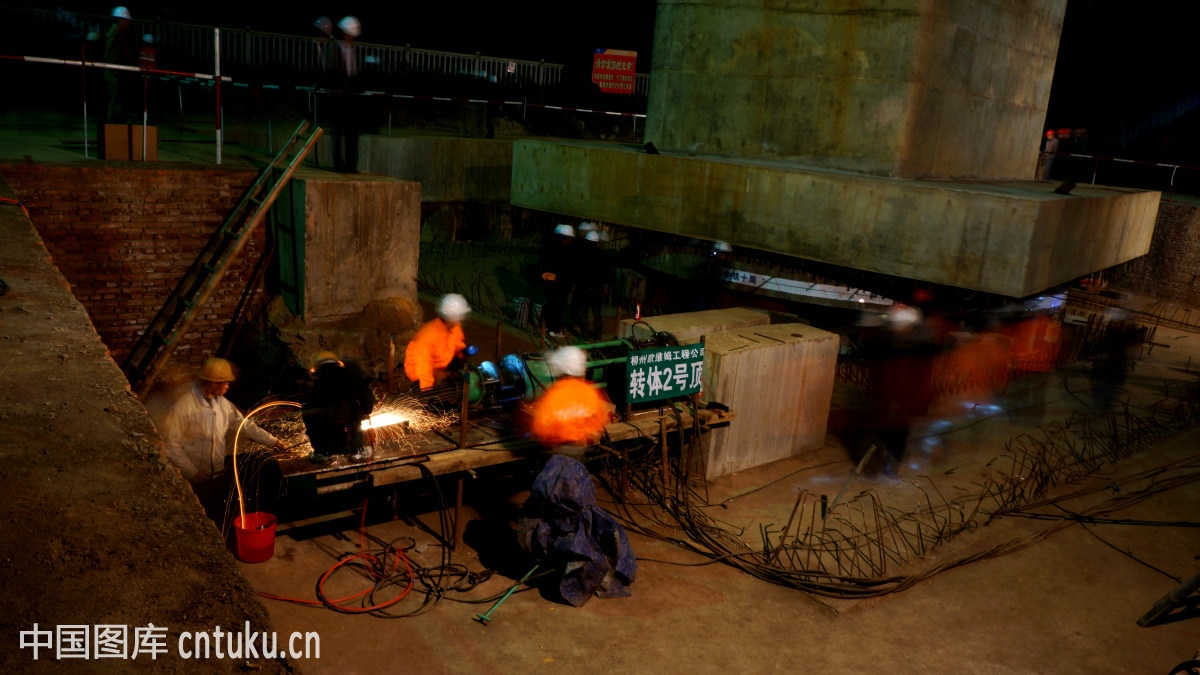white: (549, 343, 589, 387), (437, 291, 470, 326)
yellow: (197, 356, 232, 398), (308, 345, 344, 377)
